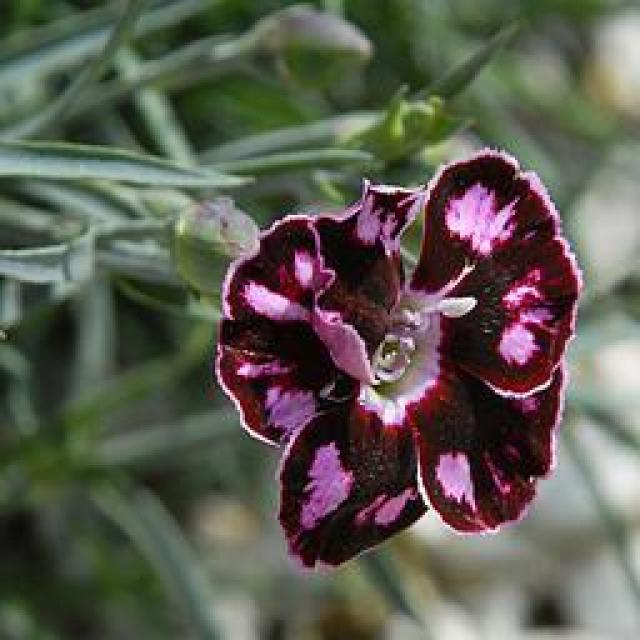carnation: (215, 142, 594, 575)
